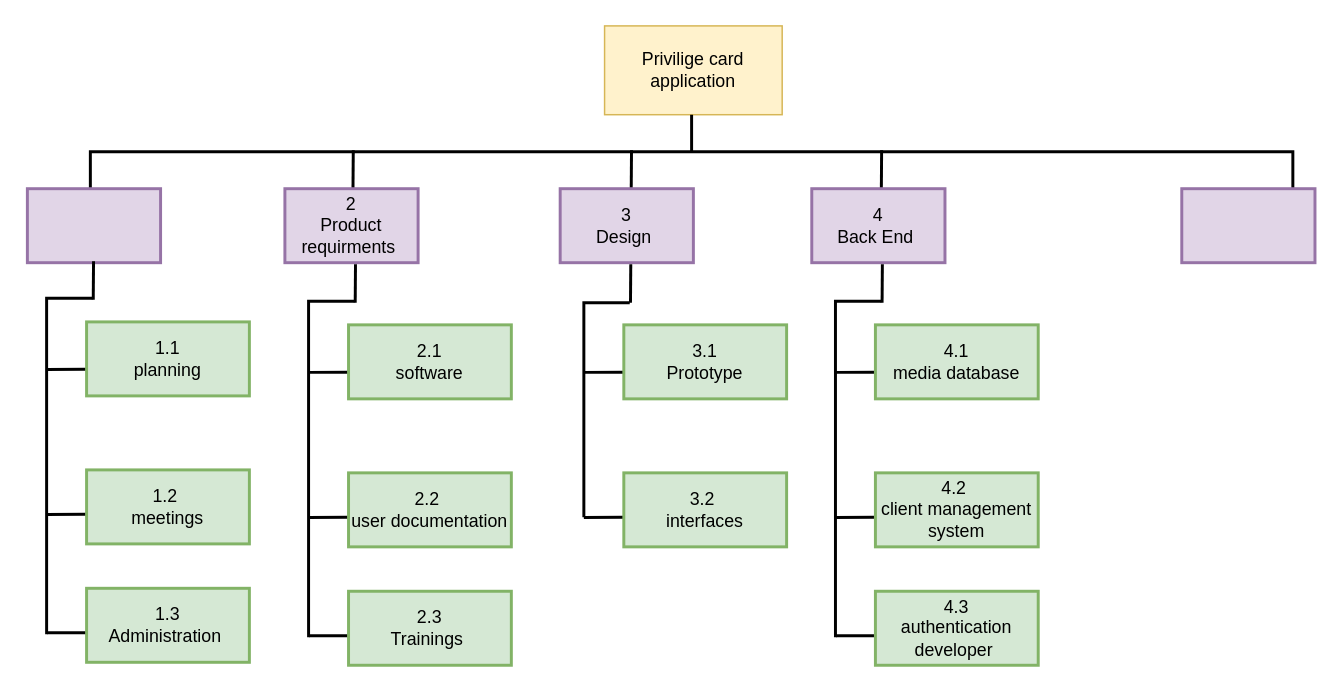
Some shapes in this 1341 by 693 pixel diagram are drawn without their labels. Here are the shapes that lost their labels. From the top down, the box of each, then its label:
(25, 186, 161, 263): 1 project management
(1180, 186, 1316, 263): 5 testing
